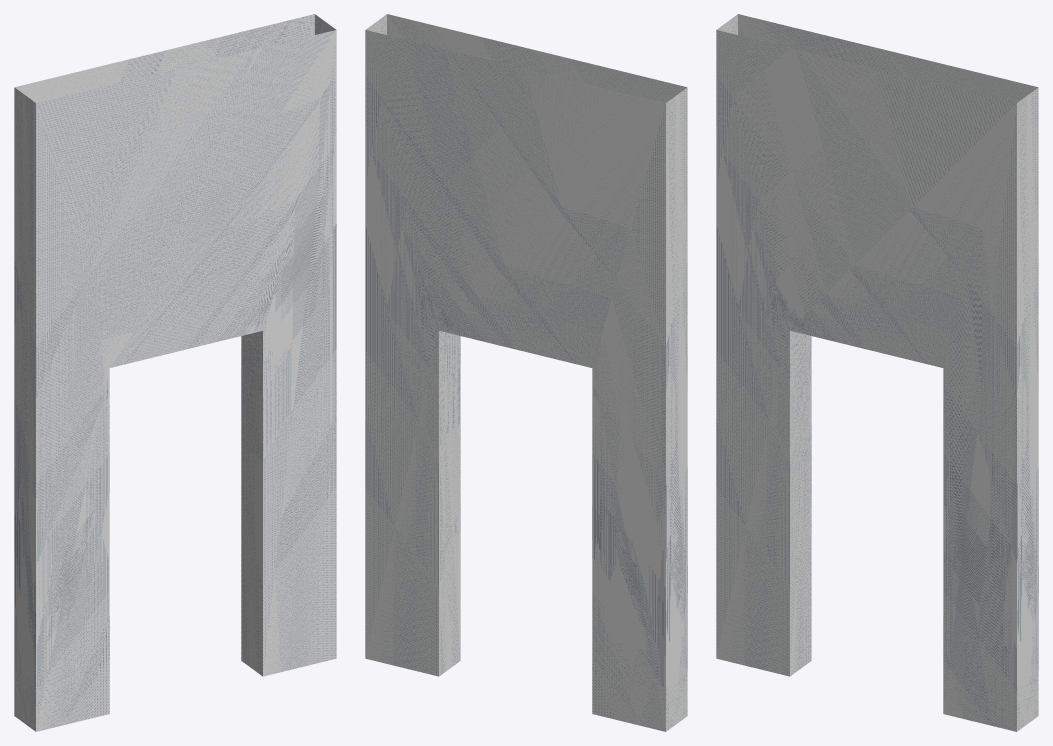
File: BlockWall_ds_[200x400x025]_102x220_doorway.dae
3 views of the same model, side by side, from view 1: azimuth 30°, elevation 25°; view 2: azimuth 150°, elevation 25°; view 3: azimuth 330°, elevation 25° (orthographic).
Visible parts, largest first — view 1: group_0; view 2: group_0; view 3: group_0.
Part boxes in pixels (left/top/right/bottom): group_0: left=14, top=14, right=336, bottom=731; group_0: left=365, top=14, right=687, bottom=731; group_0: left=716, top=14, right=1038, bottom=731.
Size of the model in its own units: 78.74 by 9.84 by 157.
